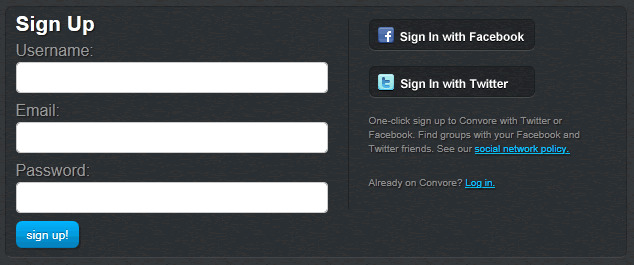_form_: (197, 1, 614, 265), (1, 1, 416, 265)
button: (367, 66, 535, 98), (369, 18, 536, 50), (14, 219, 81, 248)
field: (15, 59, 329, 94), (13, 120, 328, 154), (15, 179, 328, 213)
field_with_label: (13, 42, 332, 97), (11, 103, 330, 157), (13, 163, 330, 215)
